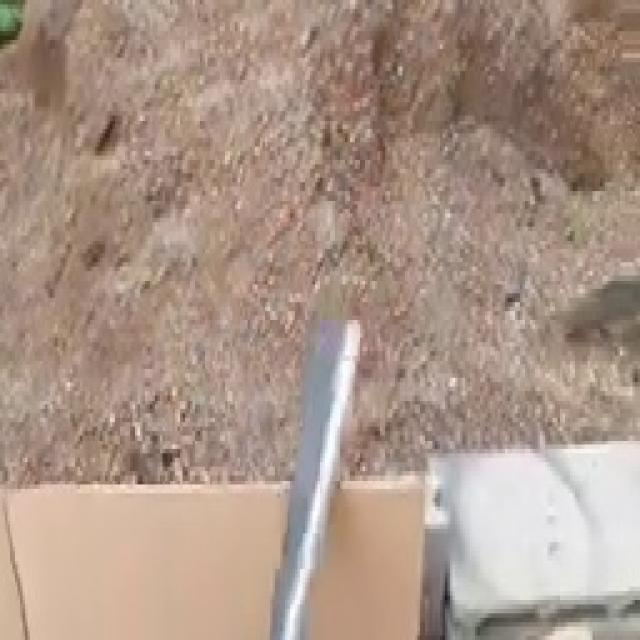eto: (272, 312, 360, 640)
